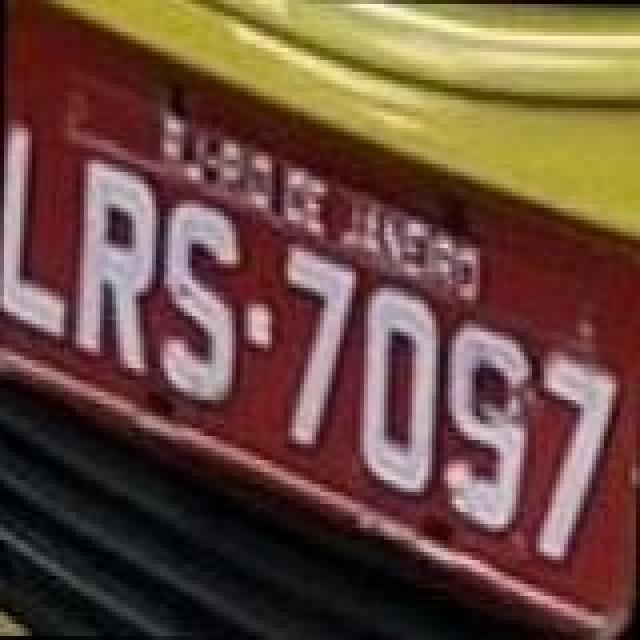7: (532, 350, 620, 570), (280, 240, 360, 448)
9: (440, 318, 536, 538)
L: (0, 122, 72, 342)
O: (356, 284, 444, 500)
R: (70, 154, 162, 374)
S: (158, 200, 242, 408)
